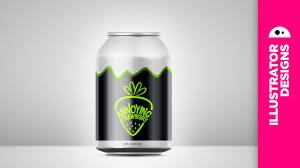Aluminum can: (90, 20, 181, 159)
